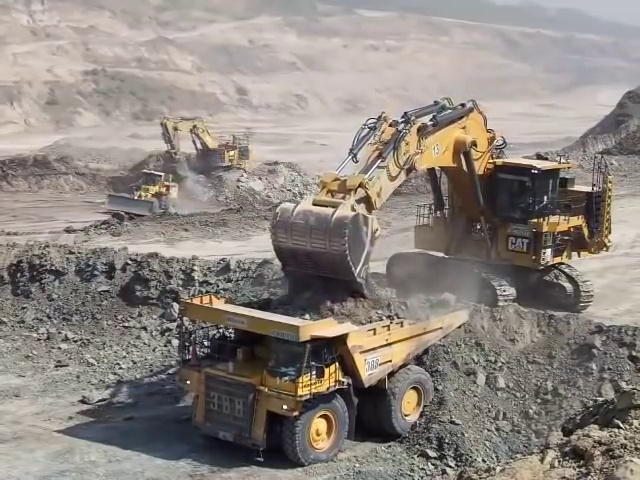dumper: (175, 293, 473, 466)
excavator: (269, 99, 613, 315), (162, 114, 254, 177)
wheel loader: (106, 171, 179, 218)
